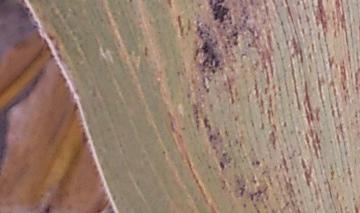tarspot: (210, 1, 228, 23), (200, 40, 210, 54), (217, 158, 225, 171), (201, 54, 209, 66), (214, 57, 220, 68), (245, 41, 253, 48), (231, 32, 240, 38), (210, 66, 216, 75), (254, 159, 261, 166), (209, 52, 216, 59), (233, 40, 239, 47), (209, 59, 214, 67), (199, 30, 203, 36)
